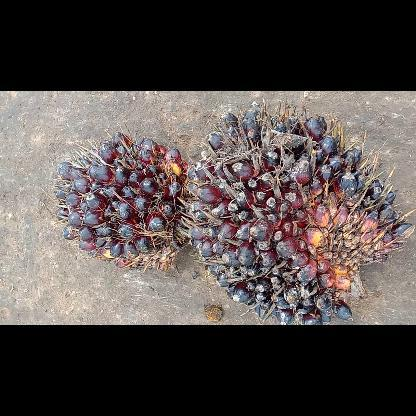TBS mentah: (190, 101, 414, 324), (56, 130, 190, 270)
